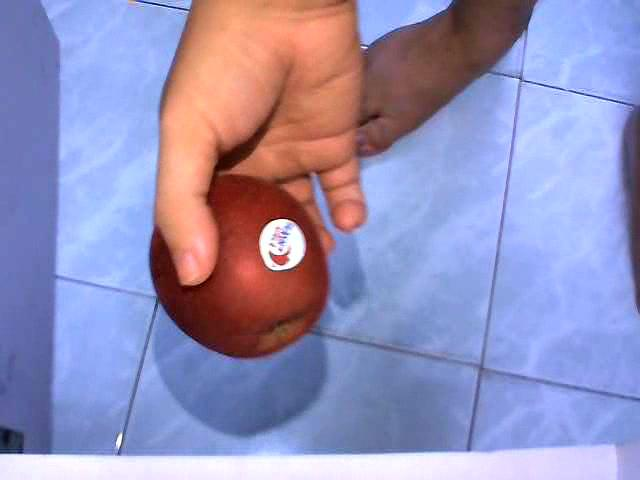apple: (147, 170, 331, 359)
